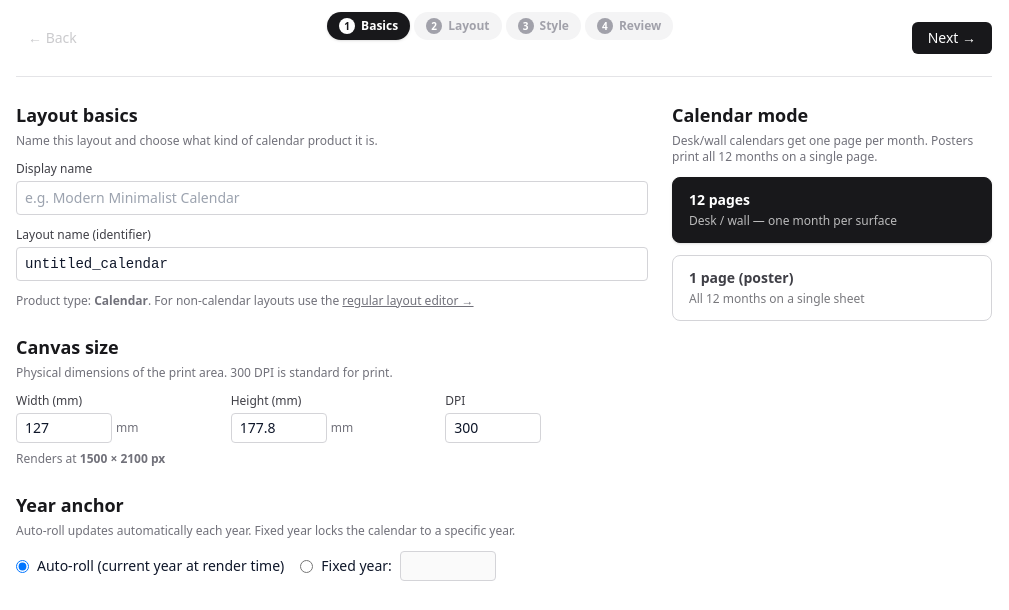
CalendarLayoutEditor — initial render › shows Gen-Z palette picker when theme is modern-genz
Click the button "3 Style" at (543, 26), box [506,12,581,40]
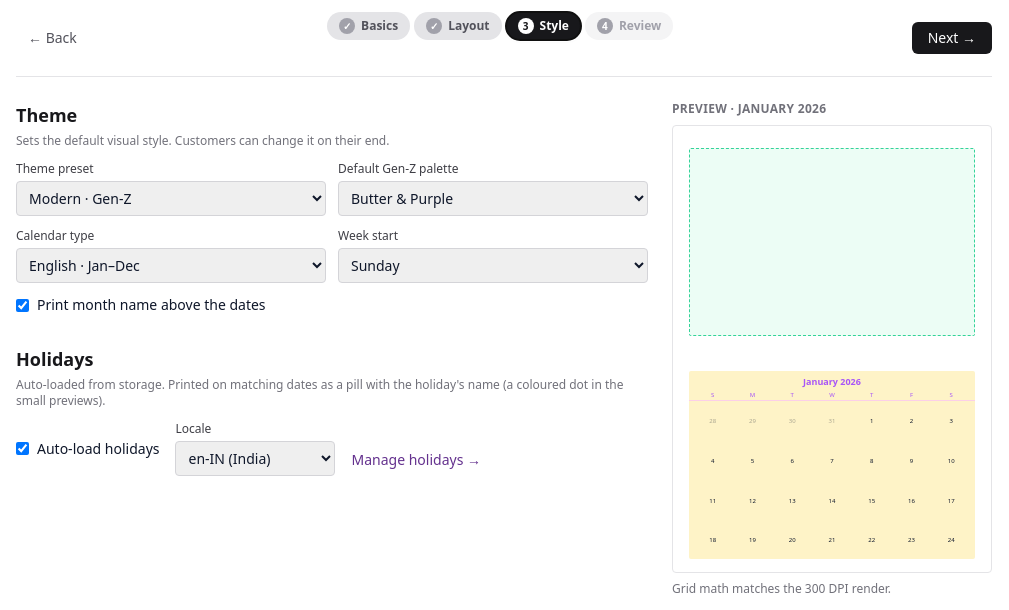
Result: the dropdown with test id "style-genz-palette" is shown at [338,181,648,216]
